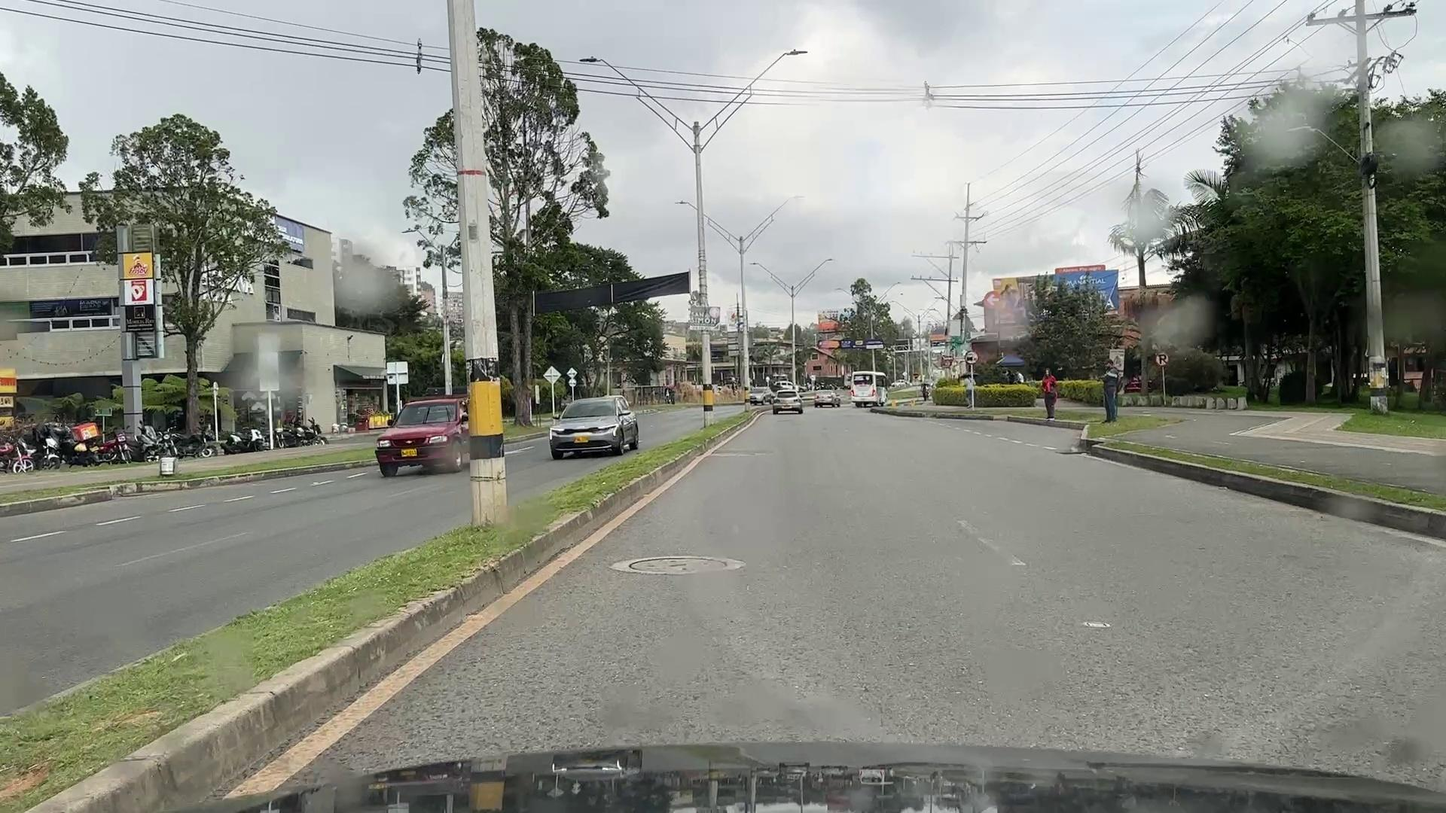registro: (629, 557, 726, 572), (712, 452, 765, 456)
